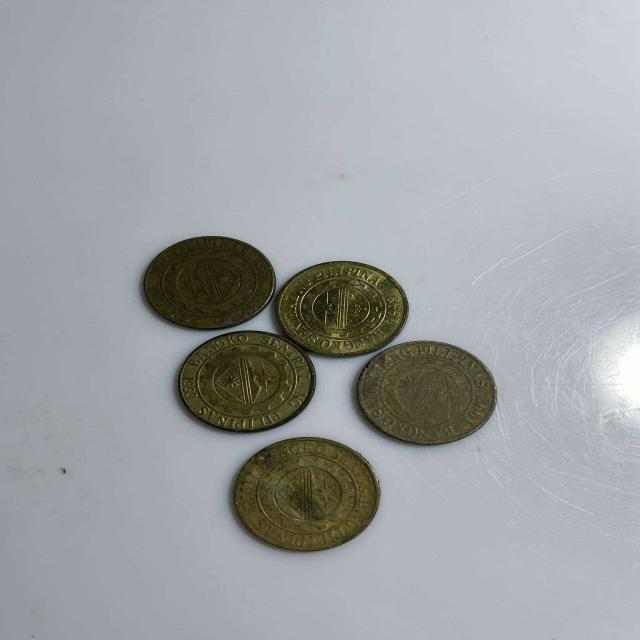25Cent_Old_Back: (238, 440, 378, 549), (361, 342, 497, 440), (146, 235, 274, 330), (184, 333, 308, 426), (284, 260, 408, 351)
